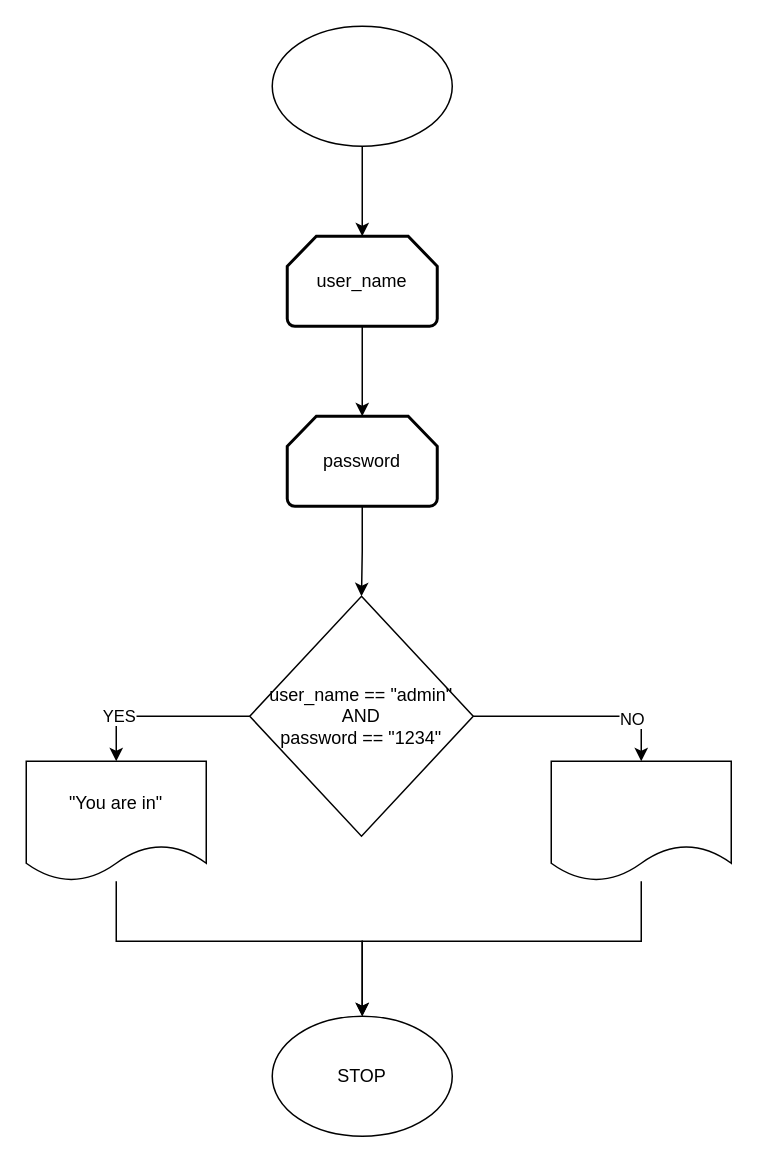
The diagram is 758 pixels wide and 1163 high, and some of its shapes have lost their labels. The centre of each missing label's shape, as x and y in pixels:
"Failed to login: (x=640, y=820)
START: (x=361, y=85)
